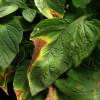Tomato leaf bacterial spot: (27, 16, 98, 96)
